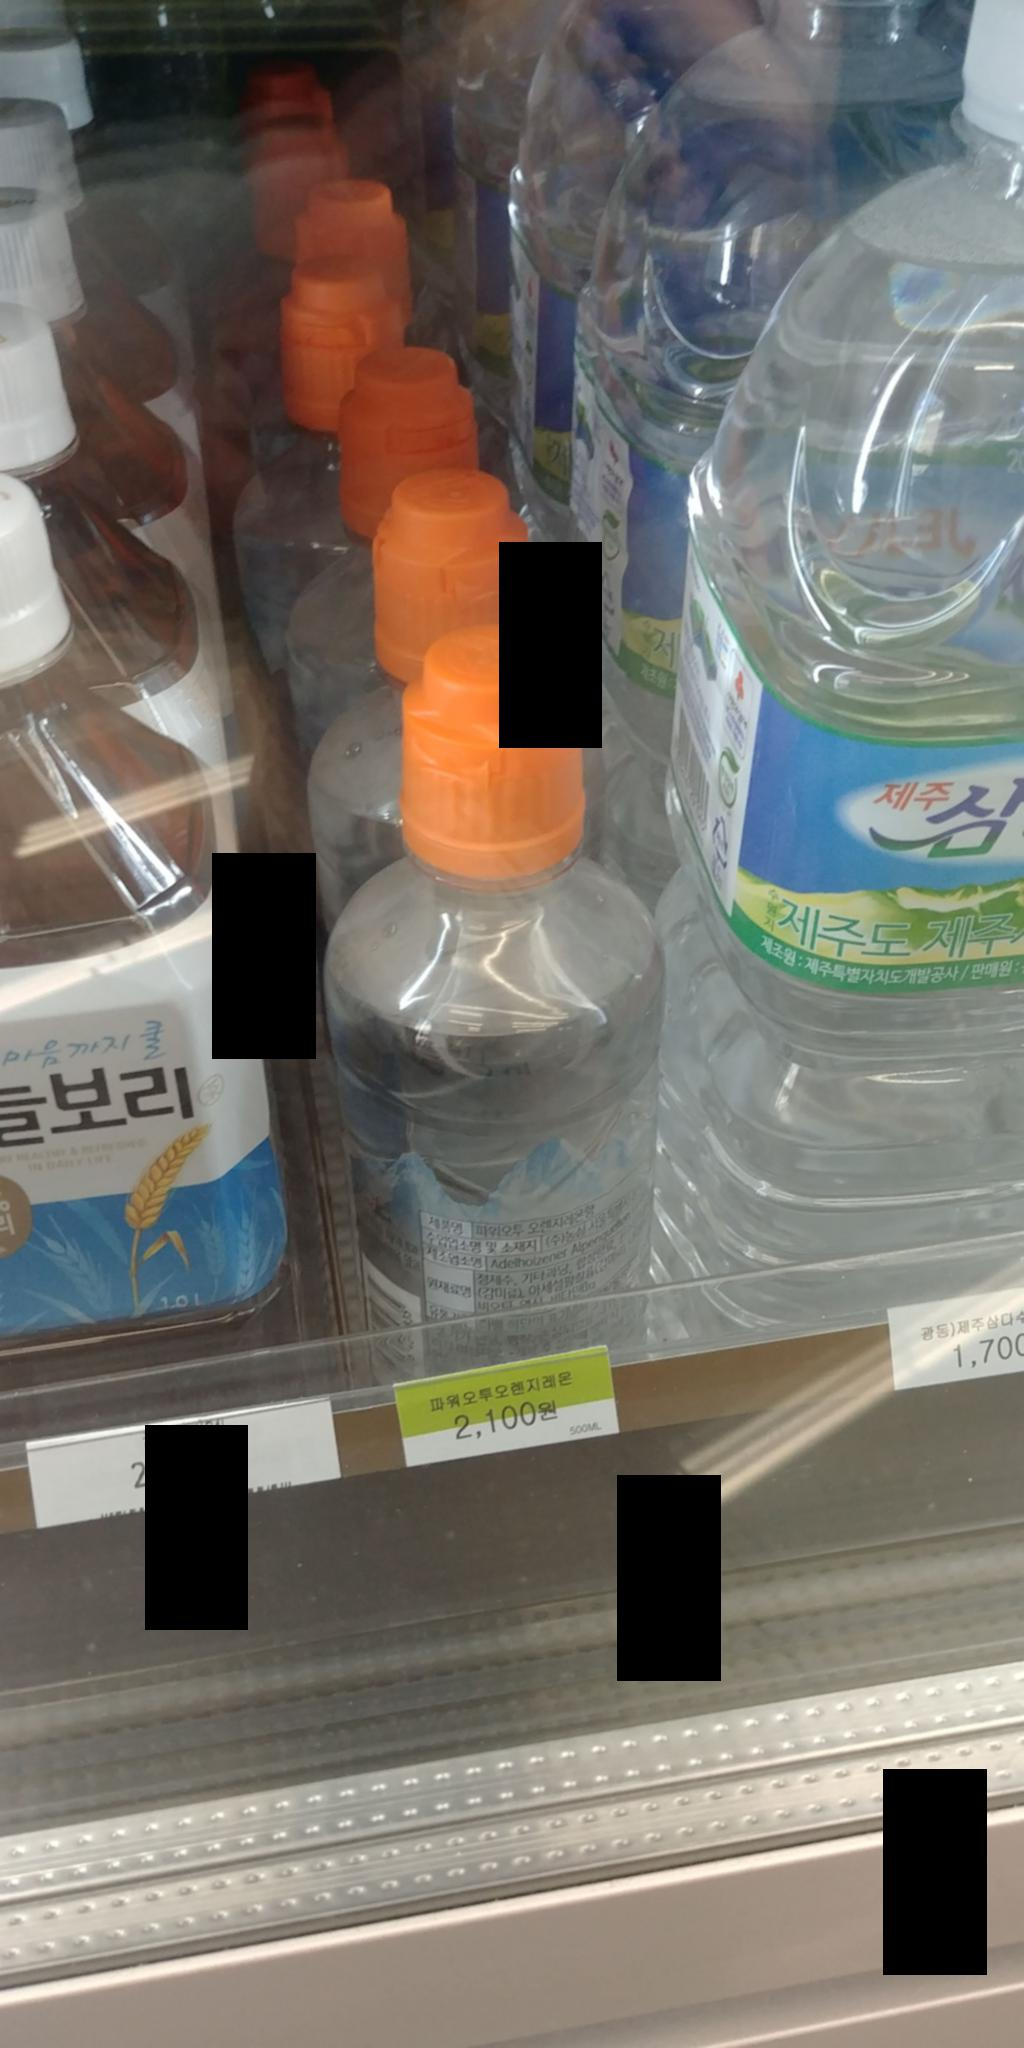powerO2_orange: (274, 640, 679, 1361)
